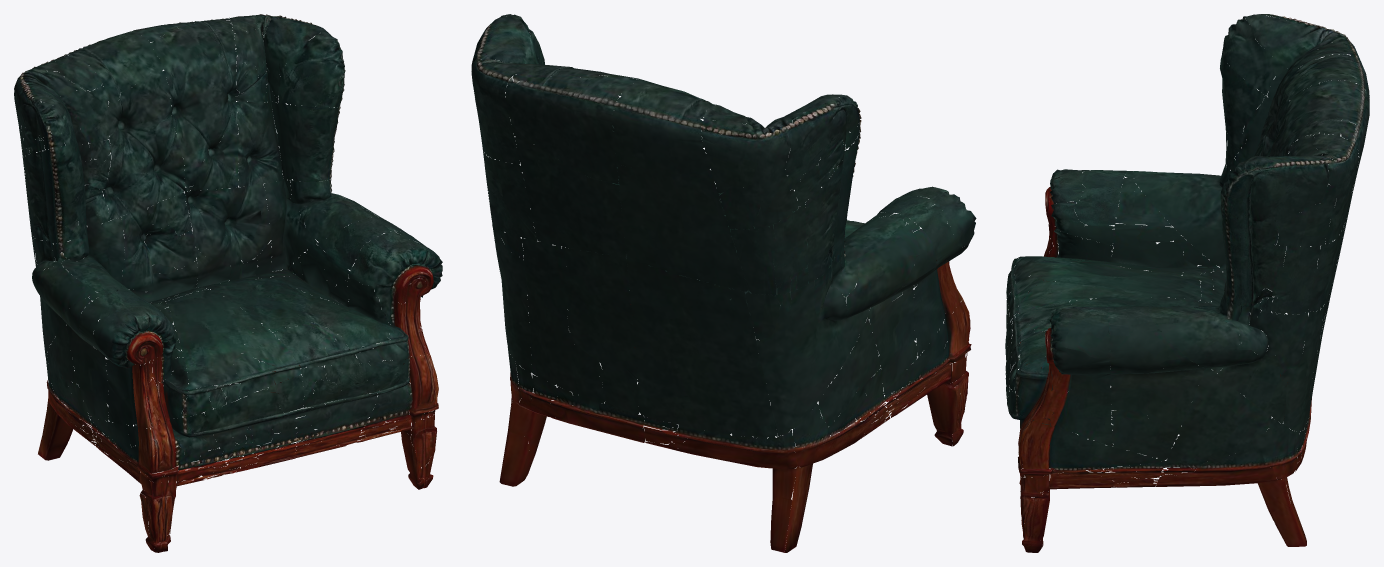
Rendered from tripo-chair.glb.
3 views of the same model, side by side, from view 1: azimuth 30°, elevation 25°; view 2: azimuth 150°, elevation 25°; view 3: azimuth 270°, elevation 25° (orthographic). The views are drawn at different scales.
Visible parts, largest first — view 1: tripo_node_12dc6063-7ee7-4e71-881e-1b50bdf962fc; view 2: tripo_node_12dc6063-7ee7-4e71-881e-1b50bdf962fc; view 3: tripo_node_12dc6063-7ee7-4e71-881e-1b50bdf962fc.
Part boxes in pixels (x1,y1,x2,y2): tripo_node_12dc6063-7ee7-4e71-881e-1b50bdf962fc: [14, 14, 442, 552]; tripo_node_12dc6063-7ee7-4e71-881e-1b50bdf962fc: [471, 14, 976, 552]; tripo_node_12dc6063-7ee7-4e71-881e-1b50bdf962fc: [1005, 14, 1369, 552].
Bounding box in the file's own units: 0.8967 × 0.9799 × 0.8056.
1 material, 1 textured.
